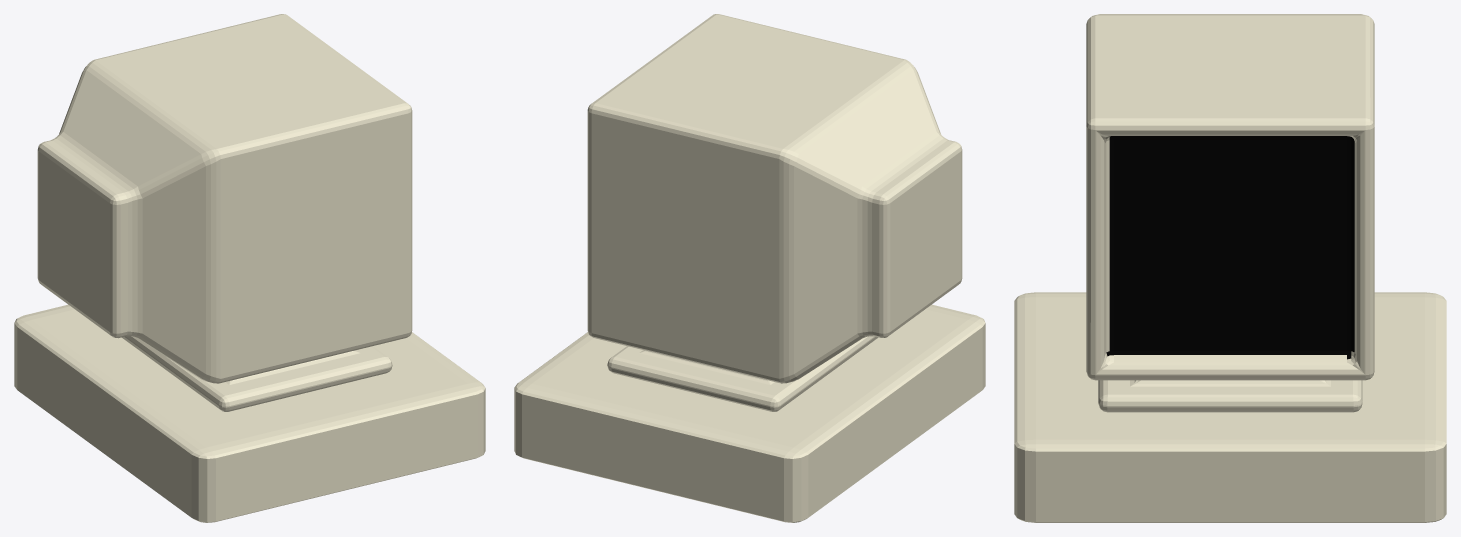
File: 3d_komputer.fbx
3 views of the same model, side by side, from view 1: azimuth 30°, elevation 25°; view 2: azimuth 150°, elevation 25°; view 3: azimuth 270°, elevation 25° (orthographic). The views are drawn at different scales.
Parts seen in each view (by area): view 1: Cube, Cube.001; view 2: Cube, Cube.001; view 3: Cube, Cube.001.
Part boxes in pixels (x1,y1,x2,y2): Cube: (37,14,412,411); Cube.001: (14,304,485,522); Cube: (587,14,962,411); Cube.001: (514,304,985,522); Cube: (1086,14,1374,412); Cube.001: (1014,292,1446,522).
Bounding box in the file's own units: 287 × 291 × 300.
